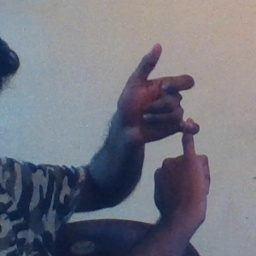S: (112, 39, 225, 196)
